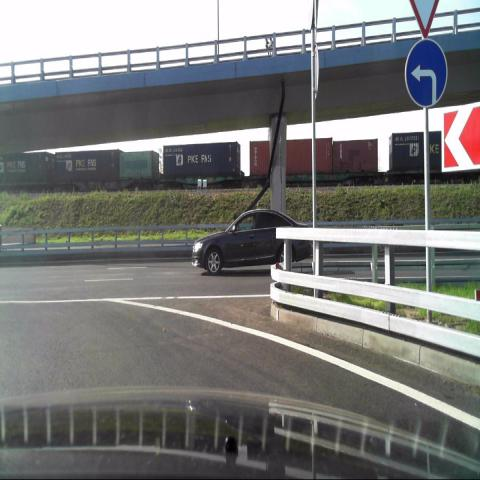4_1_3: (406, 36, 447, 108)
